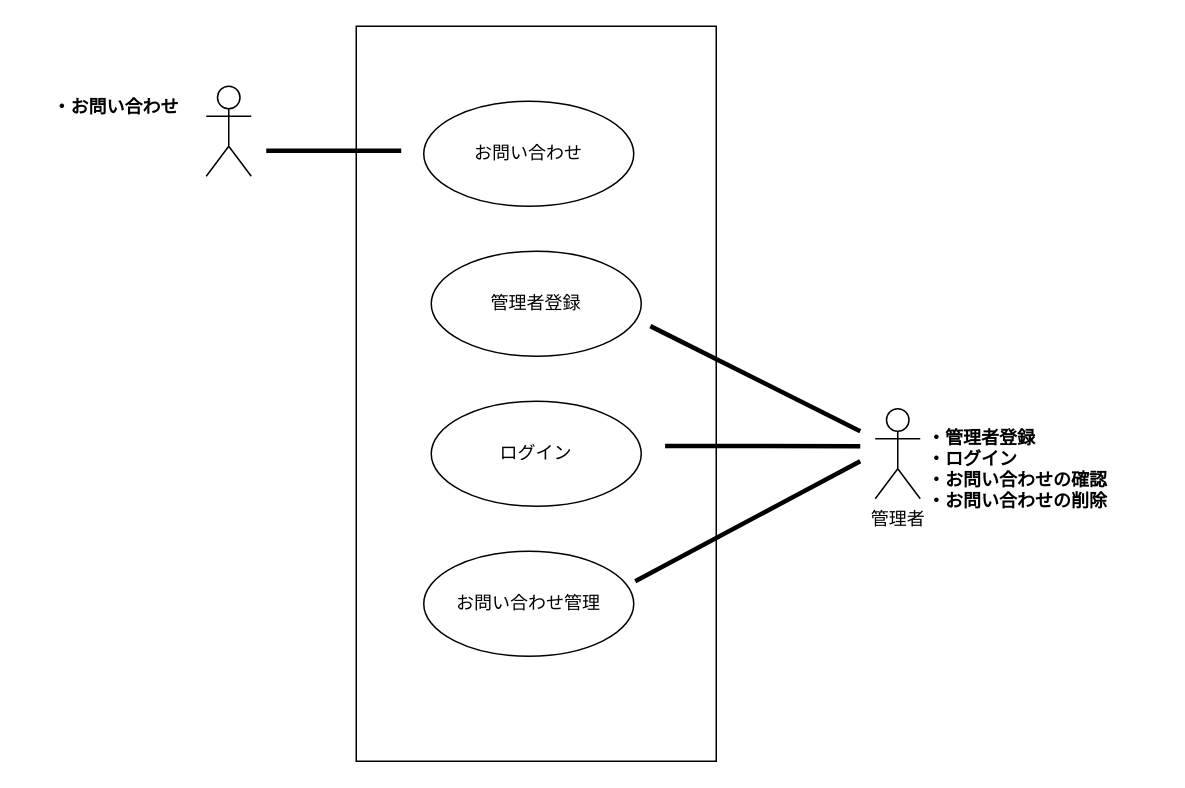
Some shapes in this 1185 by 788 pixel diagram are drawn without their labels. The shapes that lost their labels are listed below. From the top down, each one's box as (x1, y1, x2, y2) in pixels, then its label:
(205, 85, 251, 176): ユーザー
(355, 25, 716, 761): お問い合わせ管理システム
